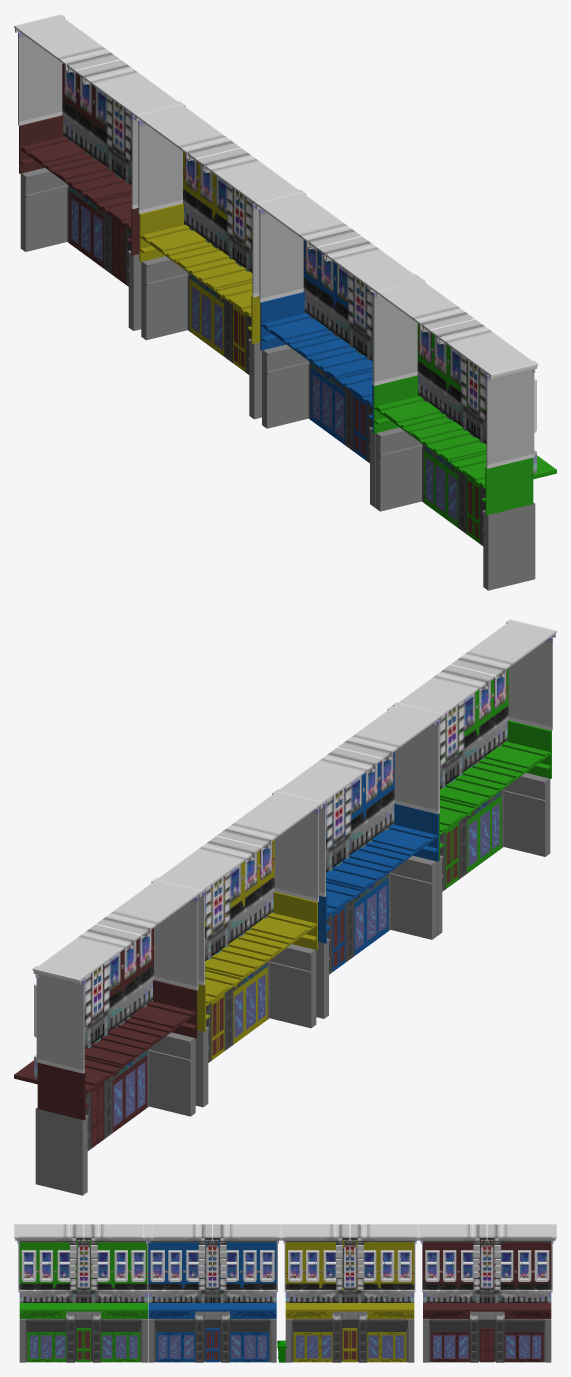
Rendered from Buildings Variation 1.fbx.
3 views of the same model, one above another, from view 1: azimuth 30°, elevation 25°; view 2: azimuth 150°, elevation 25°; view 3: azimuth 270°, elevation 25° (orthographic). The views are drawn at different scales.
Visible parts, largest first — view 1: Building 4, Building 3, Building 1, Building 2; view 2: Building 1, Building 4, Building 2, Building 3; view 3: Building 2, Building 1, Building 3, Building 4.
Boxes of the visible parts, <box> form: Building 4: <box>368,274,556,590</box>; Building 3: <box>255,192,425,507</box>; Building 1: <box>14,14,182,330</box>; Building 2: <box>134,103,303,419</box>; Building 1: <box>14,879,202,1195</box>; Building 4: <box>387,619,556,935</box>; Building 2: <box>153,790,322,1107</box>; Building 3: <box>274,702,443,1018</box>; Building 2: <box>280,1224,419,1362</box>; Building 1: <box>417,1224,556,1362</box>; Building 3: <box>142,1224,282,1362</box>; Building 4: <box>14,1224,153,1362</box>.
Size of the model in its own units: 154 by 1799 by 458.
Materials: 5 (4 with a texture image).
